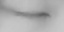LeftEyeFatigue: (2, 3, 59, 25)
